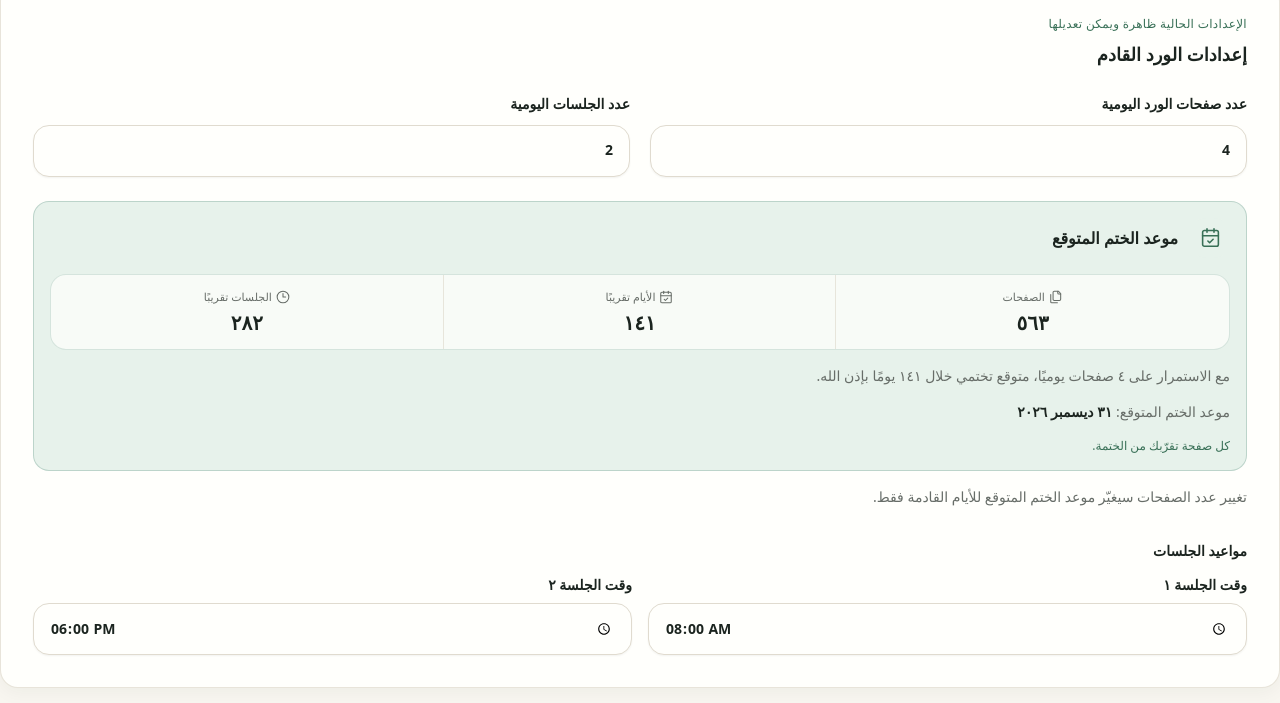
PlanSettingsForm › shows a chronological-time error without silently sorting values
Replace the text in the time field labelled "وقت الجلسة ١" with "20:00" at (948, 629), box [648,603,1247,655]
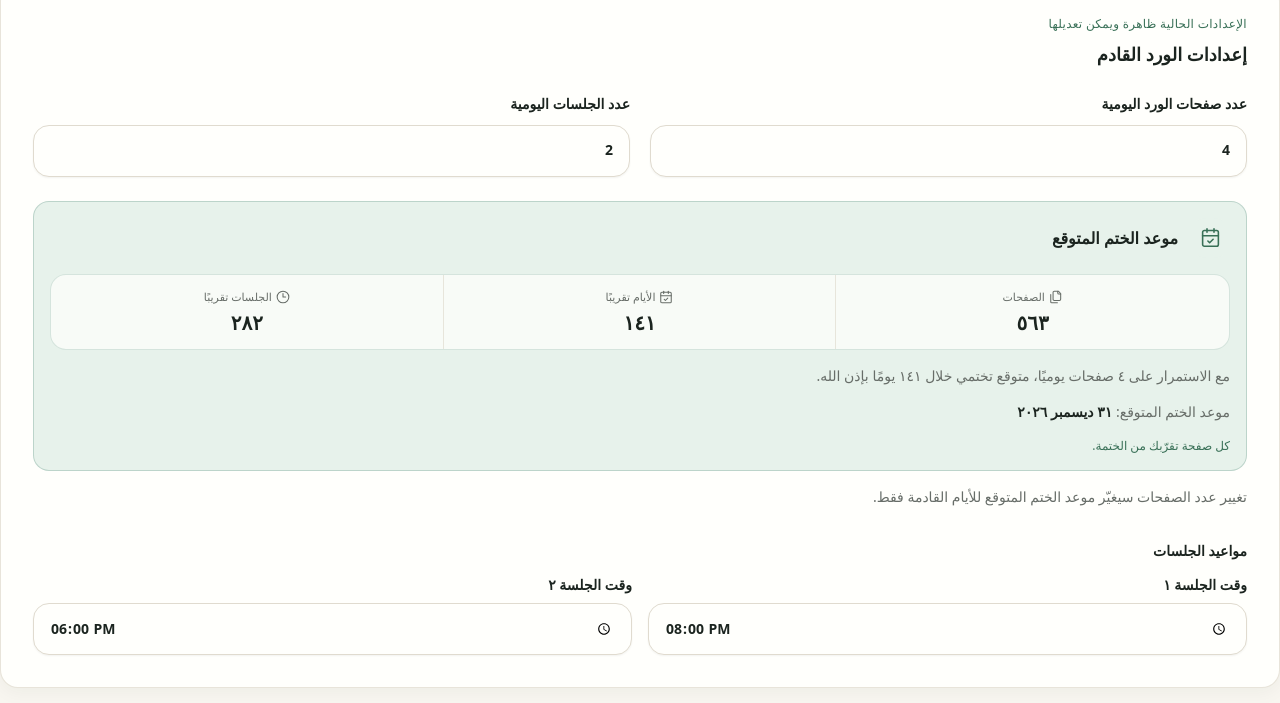
Replace the text in the time field labelled "وقت الجلسة ٢" with "06:00" at (332, 629), box [33,603,632,655]
(page scrolled)
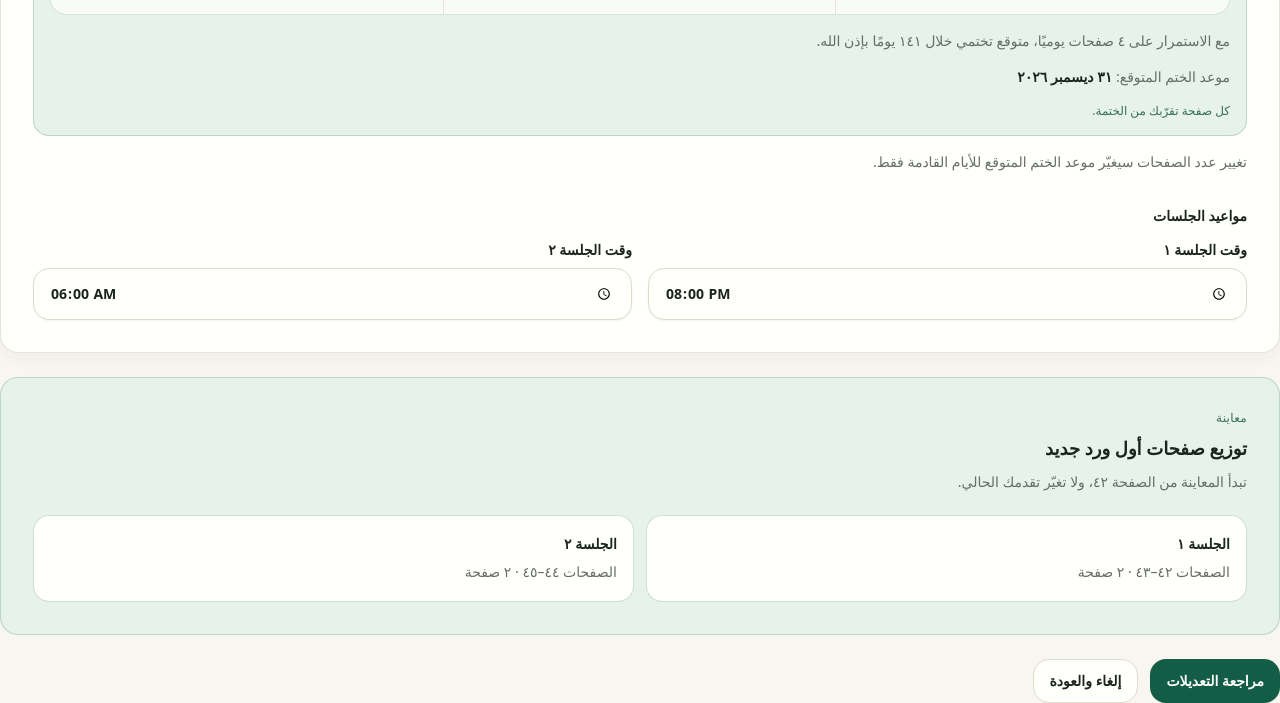
Click the button "مراجعة التعديلات" at (1215, 680), box [1150,658,1279,702]
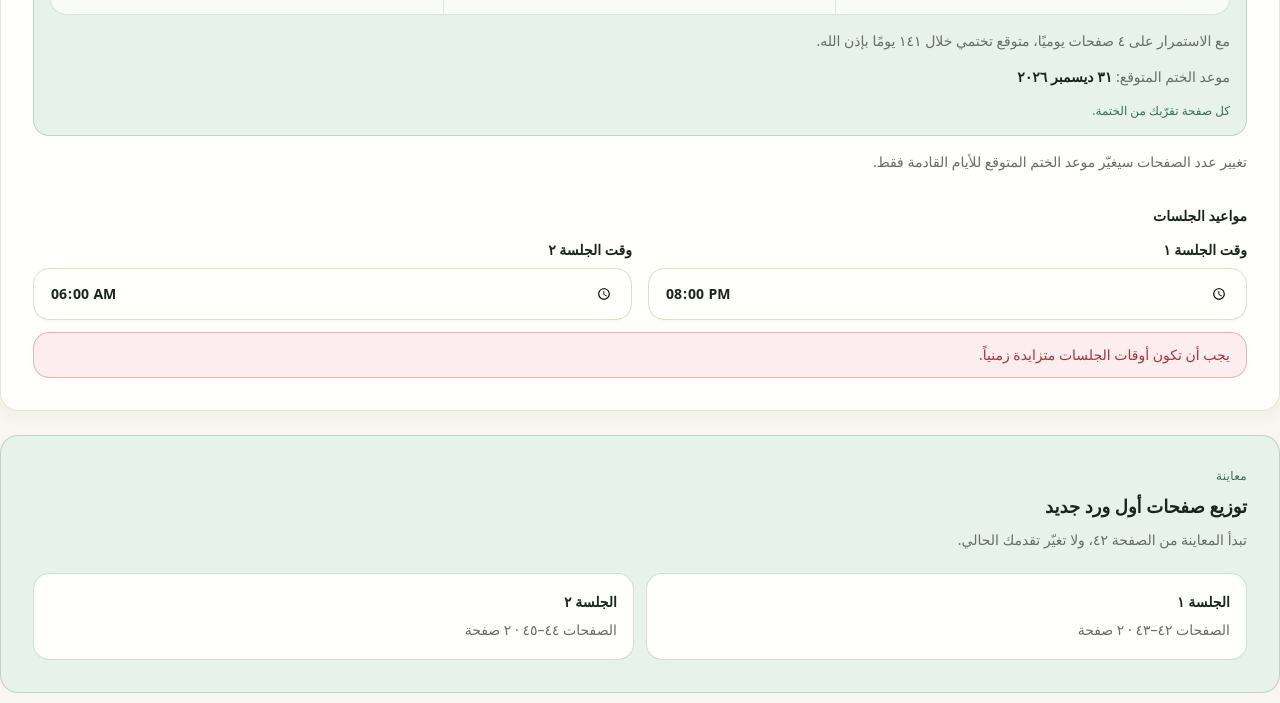
Check: the message reads "يجب أن تكون أوقات الجلسات متزايدة زمنياً.", box [979,345,1230,364]
